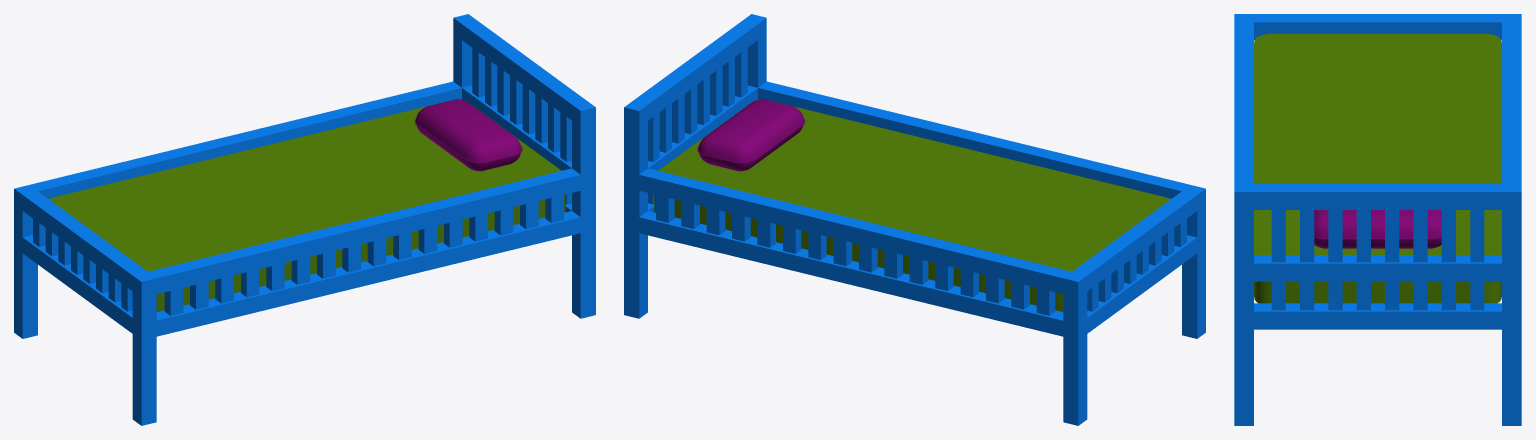
File: Bed Full (Fixed V2).fbx
The picture shows the model from 3 angles, left to right: view 1: azimuth 30°, elevation 25°; view 2: azimuth 150°, elevation 25°; view 3: azimuth 270°, elevation 25°; orthographic projection. The views are drawn at different scales.
Visible parts, largest first — view 1: Bed Frame, Mattress, Pillow; view 2: Bed Frame, Mattress, Pillow; view 3: Bed Frame, Mattress, Pillow.
Part boxes in pixels (x1,y1,x2,y2): Bed Frame: (14,14,595,425); Mattress: (49,102,565,311); Pillow: (414,99,522,171); Bed Frame: (624,14,1205,425); Mattress: (654,102,1170,311); Pillow: (697,99,805,171); Bed Frame: (1234,14,1521,425); Mattress: (1254,33,1501,303); Pillow: (1314,210,1441,248).
Size of the model in its own units: 89.51 by 39.11 by 43.52.
